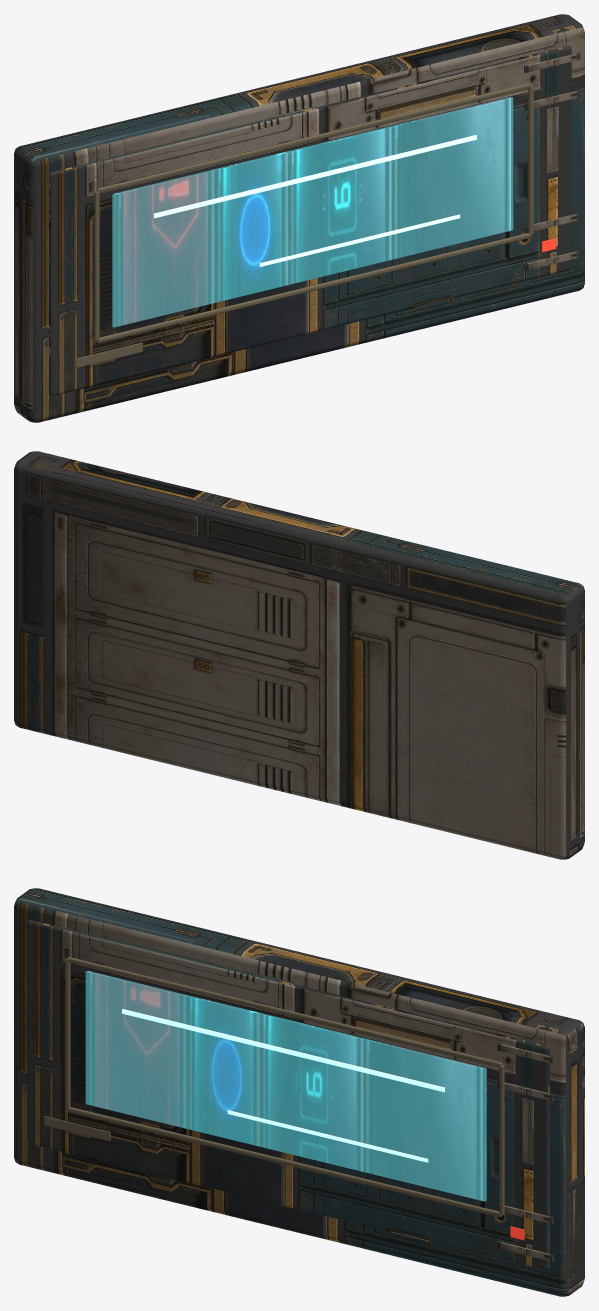
File: hp_room_residential_tv_wall_director.glb
The picture shows the model from 3 angles, top to bottom: view 1: azimuth 30°, elevation 25°; view 2: azimuth 150°, elevation 25°; view 3: azimuth 330°, elevation 25°; orthographic projection.
Parts seen in each view (by area): view 1: cool_gray_surround_panel, wide_false_home_observation_screen, deep_wall_shadow_backer, tv_screen_frame_top, tv_screen_frame_bottom, cyan_horizon_scan_line, lower_cyan_audio_trace, tv_screen_frame_left, tv_screen_frame_right, small_warm_domestic_status; view 2: deep_wall_shadow_backer; view 3: cool_gray_surround_panel, wide_false_home_observation_screen, deep_wall_shadow_backer, tv_screen_frame_top, tv_screen_frame_bottom, cyan_horizon_scan_line, lower_cyan_audio_trace, tv_screen_frame_right, tv_screen_frame_left, small_warm_domestic_status.
Boxes of the visible parts, x1,y1,x2,y2 form: cool_gray_surround_panel: [49, 46, 571, 395]; wide_false_home_observation_screen: [112, 97, 513, 327]; deep_wall_shadow_backer: [14, 14, 584, 422]; tv_screen_frame_top: [96, 83, 531, 193]; tv_screen_frame_bottom: [96, 233, 531, 343]; cyan_horizon_scan_line: [154, 135, 476, 218]; lower_cyan_audio_trace: [259, 214, 460, 266]; tv_screen_frame_left: [94, 191, 99, 341]; tv_screen_frame_right: [528, 85, 533, 234]; small_warm_domestic_status: [76, 342, 142, 367]; deep_wall_shadow_backer: [14, 451, 584, 859]; cool_gray_surround_panel: [27, 920, 549, 1269]; wide_false_home_observation_screen: [85, 971, 486, 1201]; deep_wall_shadow_backer: [14, 888, 584, 1296]; tv_screen_frame_top: [67, 957, 502, 1067]; tv_screen_frame_bottom: [67, 1107, 502, 1217]; cyan_horizon_scan_line: [122, 1009, 444, 1092]; lower_cyan_audio_trace: [227, 1110, 428, 1162]; tv_screen_frame_right: [499, 1065, 504, 1215]; tv_screen_frame_left: [65, 959, 70, 1108]; small_warm_domestic_status: [44, 1116, 110, 1141].
Bounding box in the file's own units: 4.4 × 2.02 × 0.3688.
6 materials, 3 textured.
